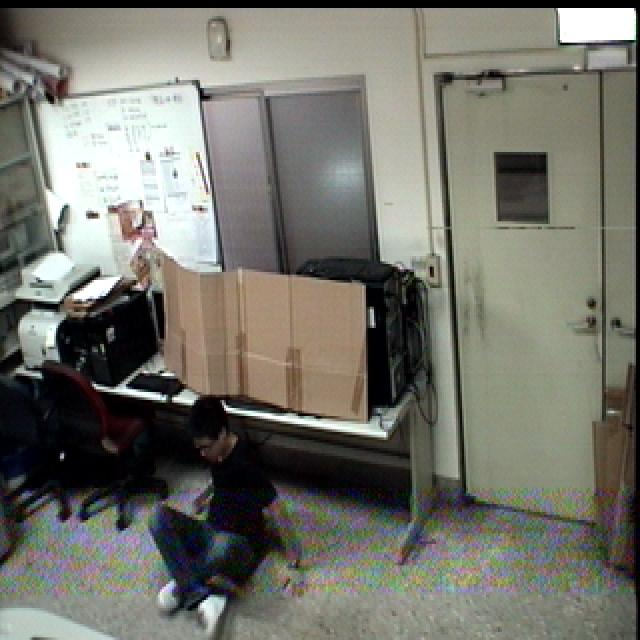sit: (138, 386, 316, 640)
